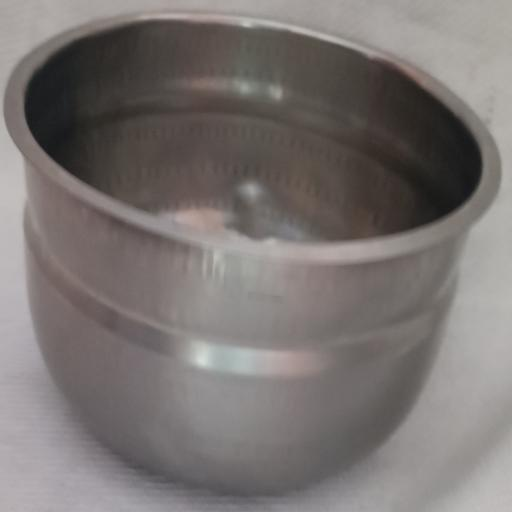vessel: (4, 13, 500, 493)
